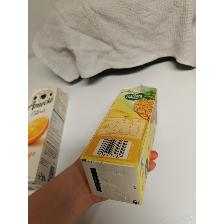Saft: (80, 81, 158, 207)
